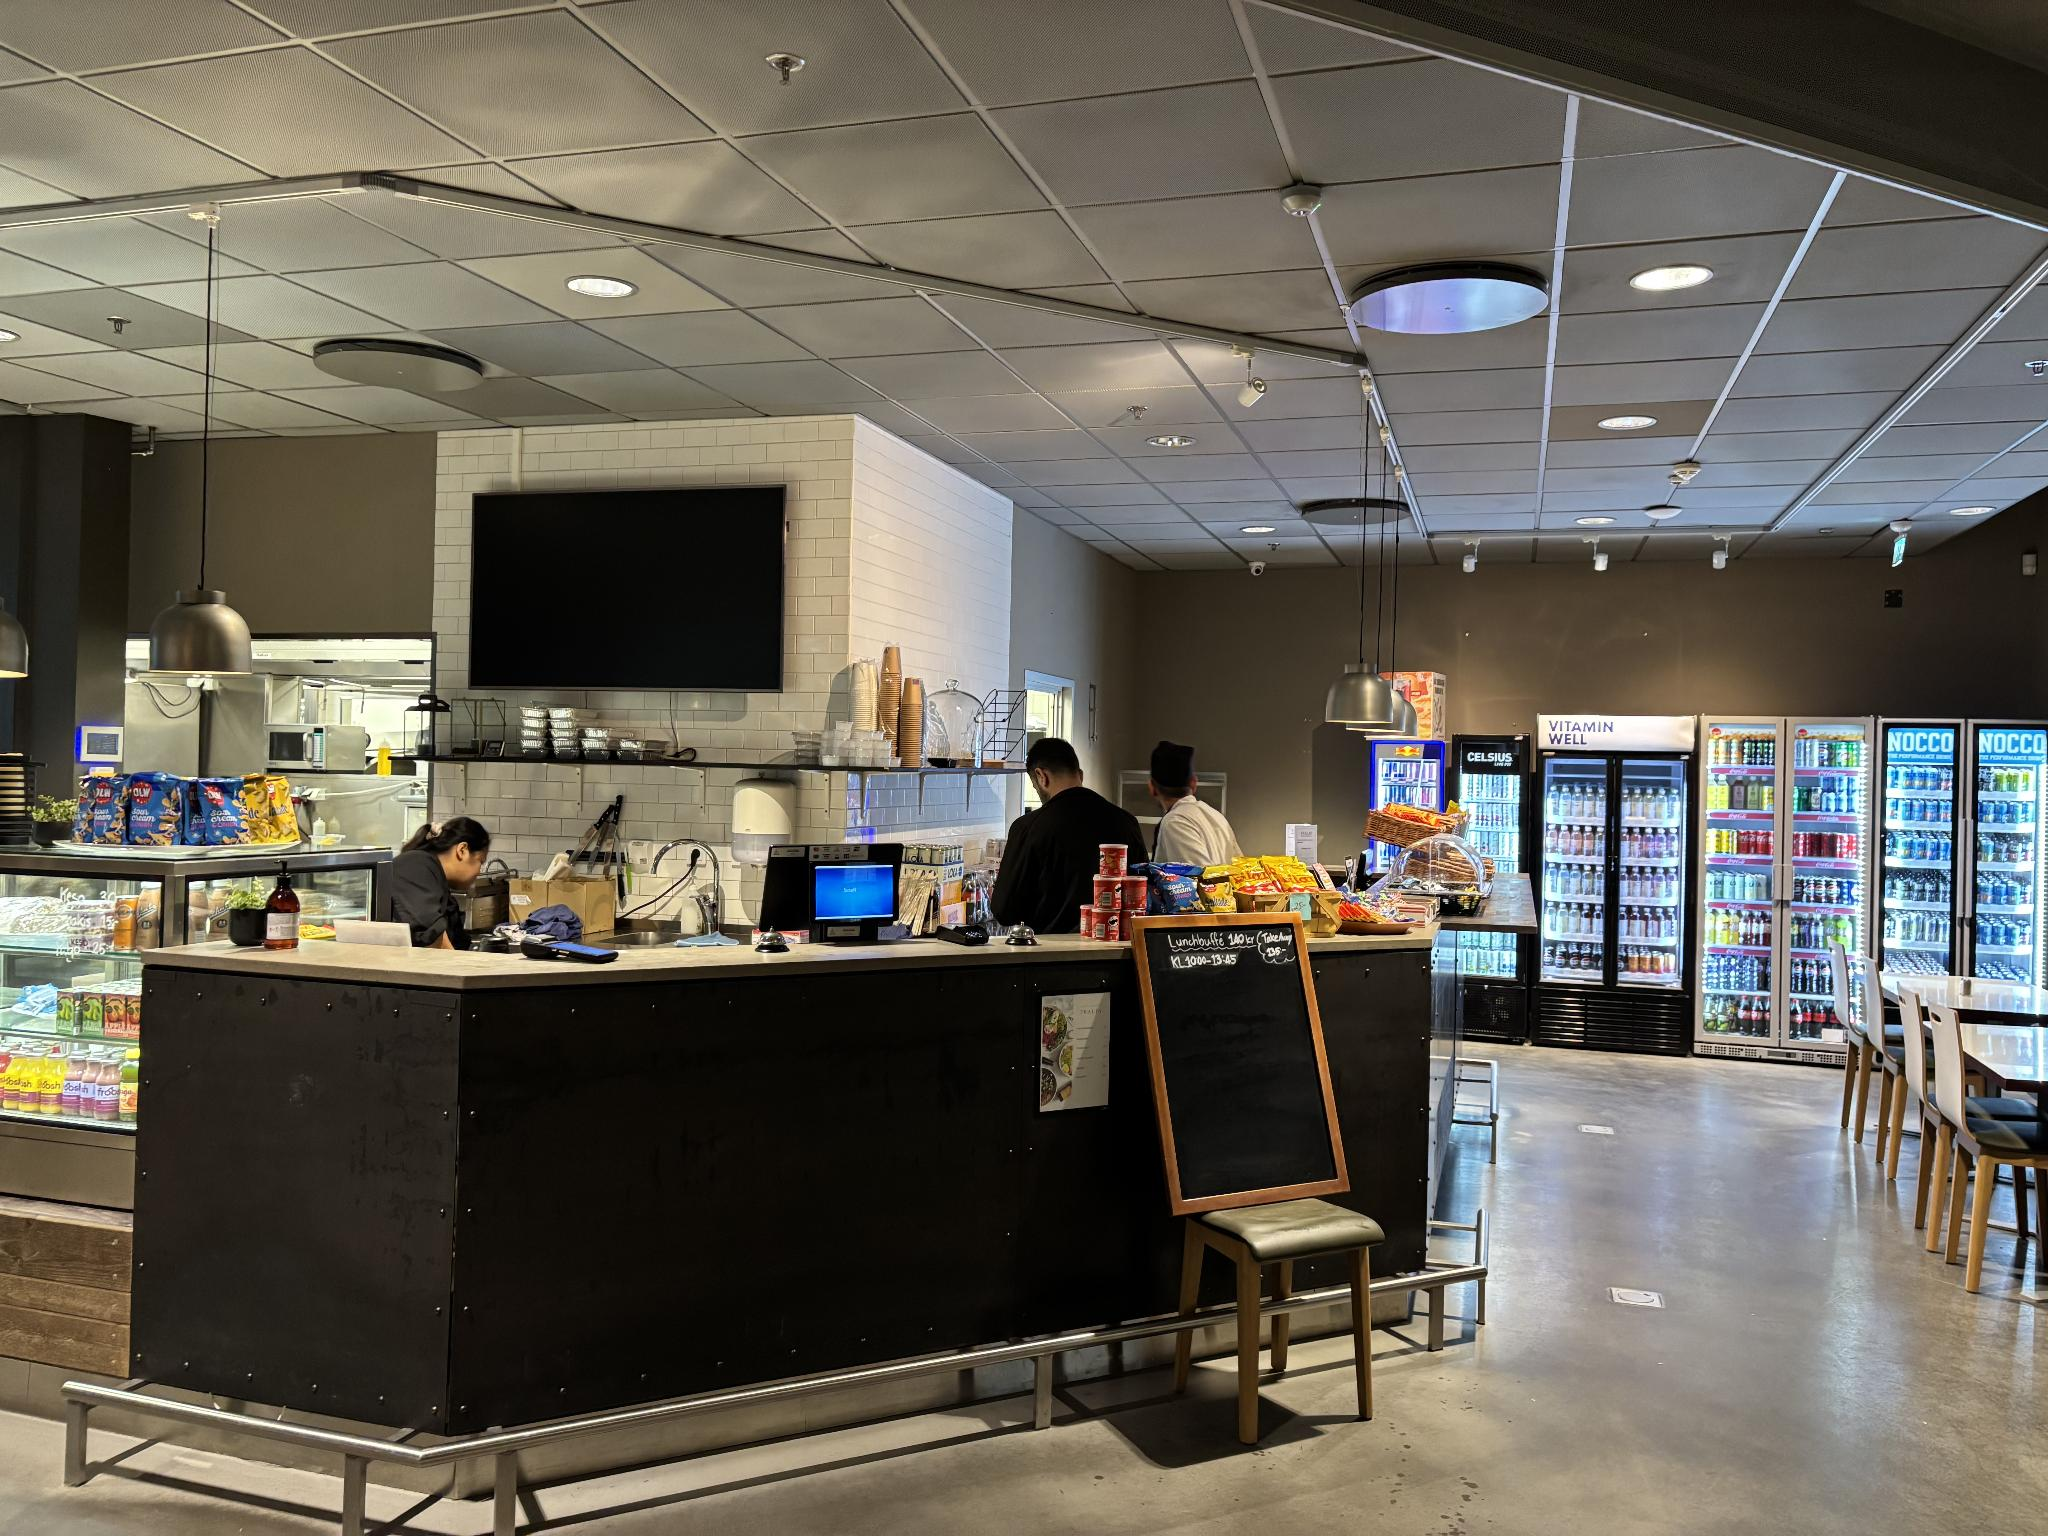person: (375, 817, 488, 918), (1031, 738, 1139, 839), (1151, 742, 1241, 859)
